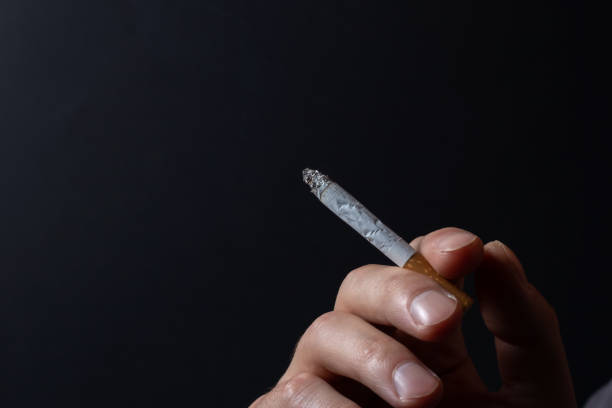cigarette: (301, 168, 473, 307)
